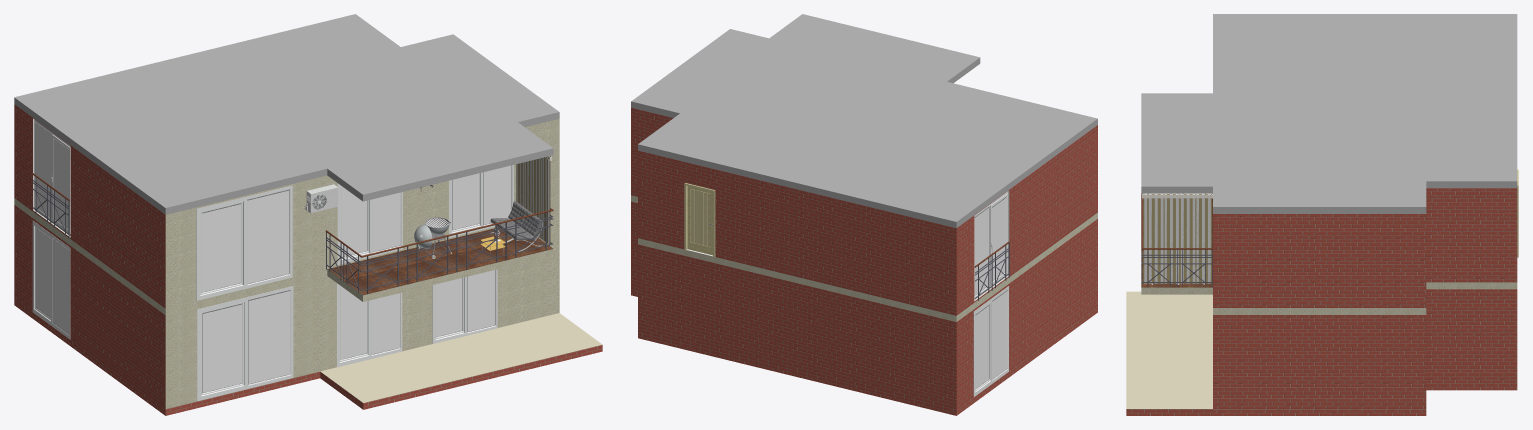
File: lipinka__appartment__80_square_meters.glb
3 views of the same model, side by side, from view 1: azimuth 30°, elevation 25°; view 2: azimuth 150°, elevation 25°; view 3: azimuth 270°, elevation 25° (orthographic). The views are drawn at different scales.
Parts seen in each view (by area): view 1: material-0.358, material-0.022, material-0.016, material-0.004, material-0.130, material-3.014, material-3.005, material-0.049, material-0.037, material-0.001, material-1.011, material-0.157 (+19 smaller); view 2: material-0.358, material-1.002, material-0.117, material-0.016, material-0.091, material-0.130, material-1.023, material-1.011, material-0.001, material-0.157, material-1.016, material-3.003 (+7 smaller); view 3: material-0.358, material-0.013, material-0.094, material-0.004, material-1.001, material-1.015, material-0.154, material-0.001, material-1.011, material-1.066, material-1.067, material-1.070 (+5 smaller).
Part boxes in pixels (x1,y1,x2,y2): material-0.358: (14,14,559,214); material-0.022: (165,219,559,408); material-0.016: (14,205,165,408); material-0.004: (320,313,602,402); material-0.130: (85,157,165,308); material-3.014: (202,190,289,292); material-3.005: (203,291,290,392); material-0.049: (165,177,318,308); material-0.037: (327,228,552,295); material-0.001: (14,298,602,415); material-1.011: (14,198,559,315); material-0.157: (14,104,85,249); material-0.358: (631,14,1097,228); material-1.002: (638,244,956,409); material-0.117: (828,197,956,315); material-0.016: (956,219,1097,408); material-0.091: (741,176,827,284); material-0.130: (1023,125,1097,266); material-1.023: (673,159,741,262); material-1.011: (631,195,1097,321); material-0.001: (631,289,1097,415); material-0.157: (956,180,1023,315); material-1.016: (638,150,672,246); material-3.003: (975,291,1007,388); material-0.358: (1141,14,1517,213); material-0.013: (1213,315,1426,408); material-0.094: (1213,214,1395,307); material-0.004: (1126,291,1212,408); material-1.001: (1426,289,1517,383); material-1.015: (1426,188,1517,282); material-0.154: (1395,214,1426,307); material-0.001: (1126,383,1517,415); material-1.011: (1141,282,1517,314); material-1.066: (1147,194,1164,283); material-1.067: (1180,194,1196,283); material-1.070: (1195,194,1211,283).
Size of the model in its own units: 12.15 by 6.1 by 10.39.
80 materials, 27 textured.
